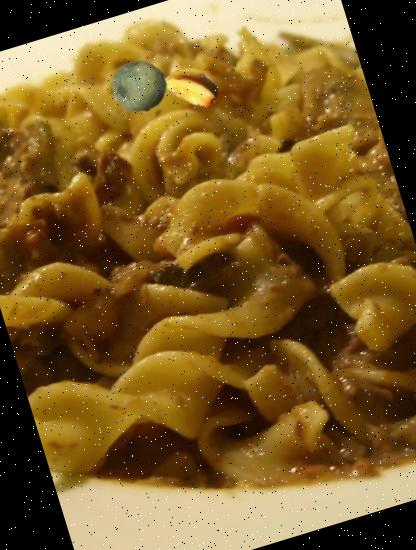Carambula: (160, 52, 228, 120)
Limes: (106, 52, 175, 121)
